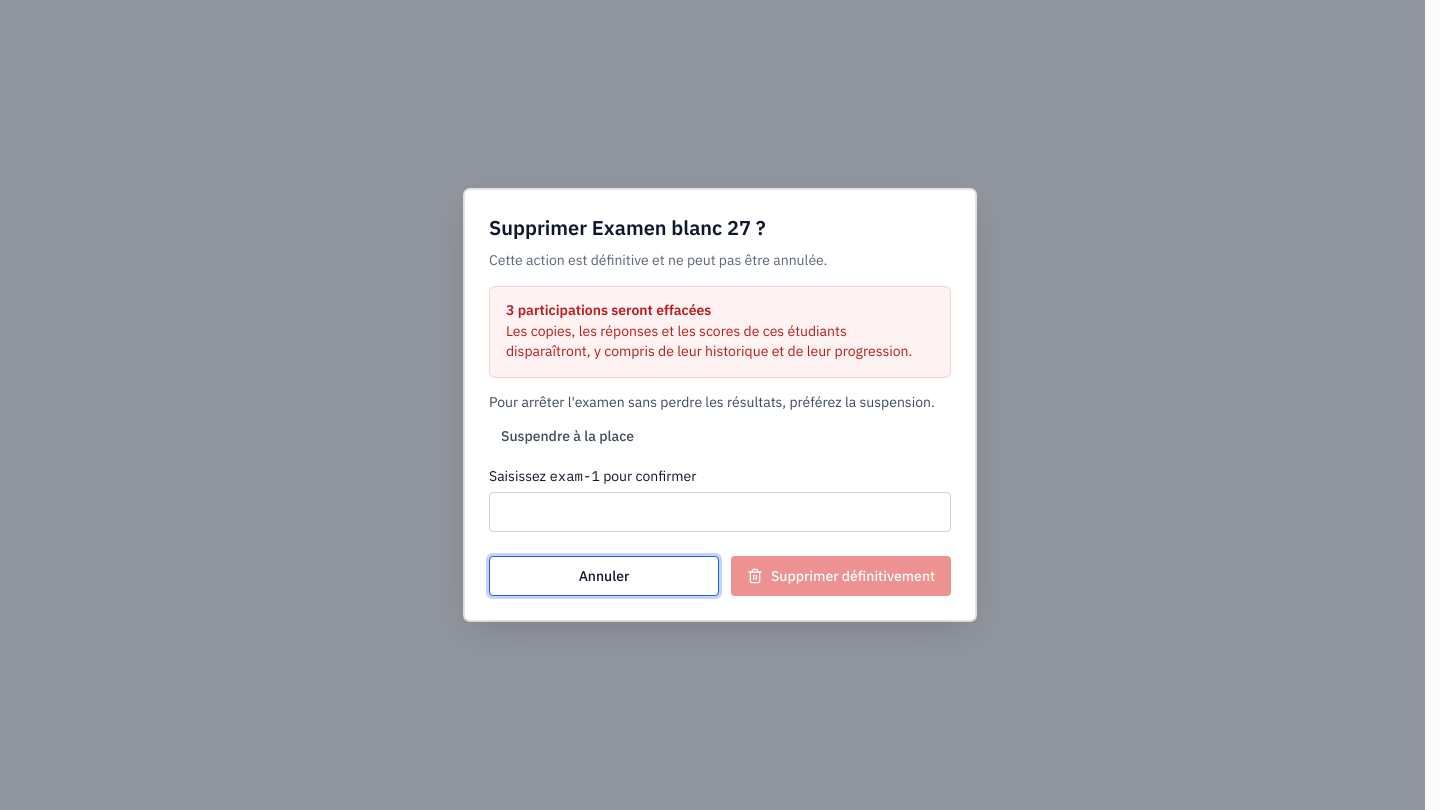
DeleteExamDialog › avec participations, exige l'identifiant de l'examen
Expected: the heading "3 participations seront effacées" is shown, left=506, top=301, right=711, bottom=319
Expected: the button with test id "btn-delete-exam-confirm" is disabled, left=731, top=556, right=951, bottom=596
Type "exam-" into the field with test id "delete-exam-confirm-input". click: (720, 512)
box: left=489, top=492, right=951, bottom=532
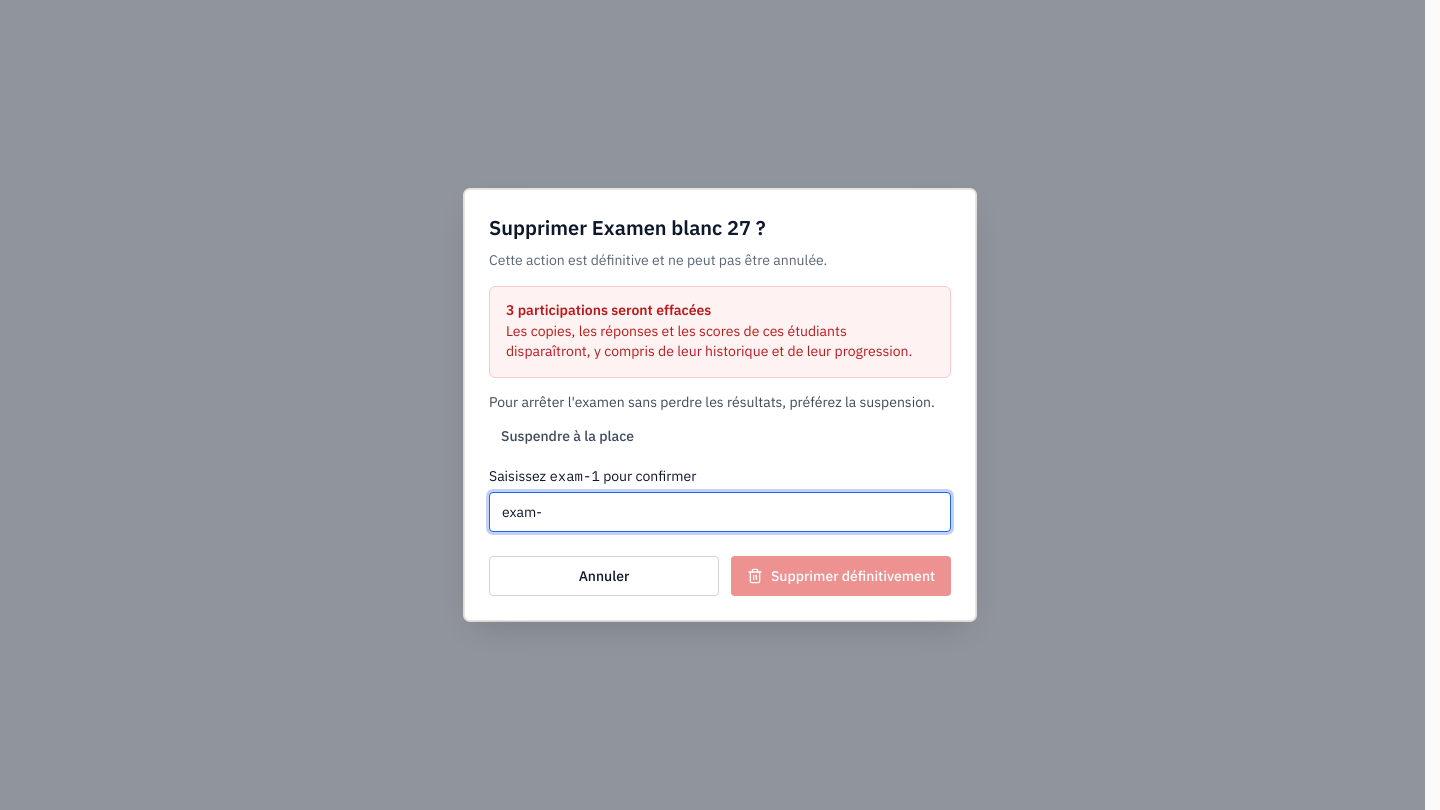
Expected: the button with test id "btn-delete-exam-confirm" is disabled, left=731, top=556, right=951, bottom=596
Type "1" into the field with test id "delete-exam-confirm-input". click: (720, 512)
box: left=489, top=492, right=951, bottom=532
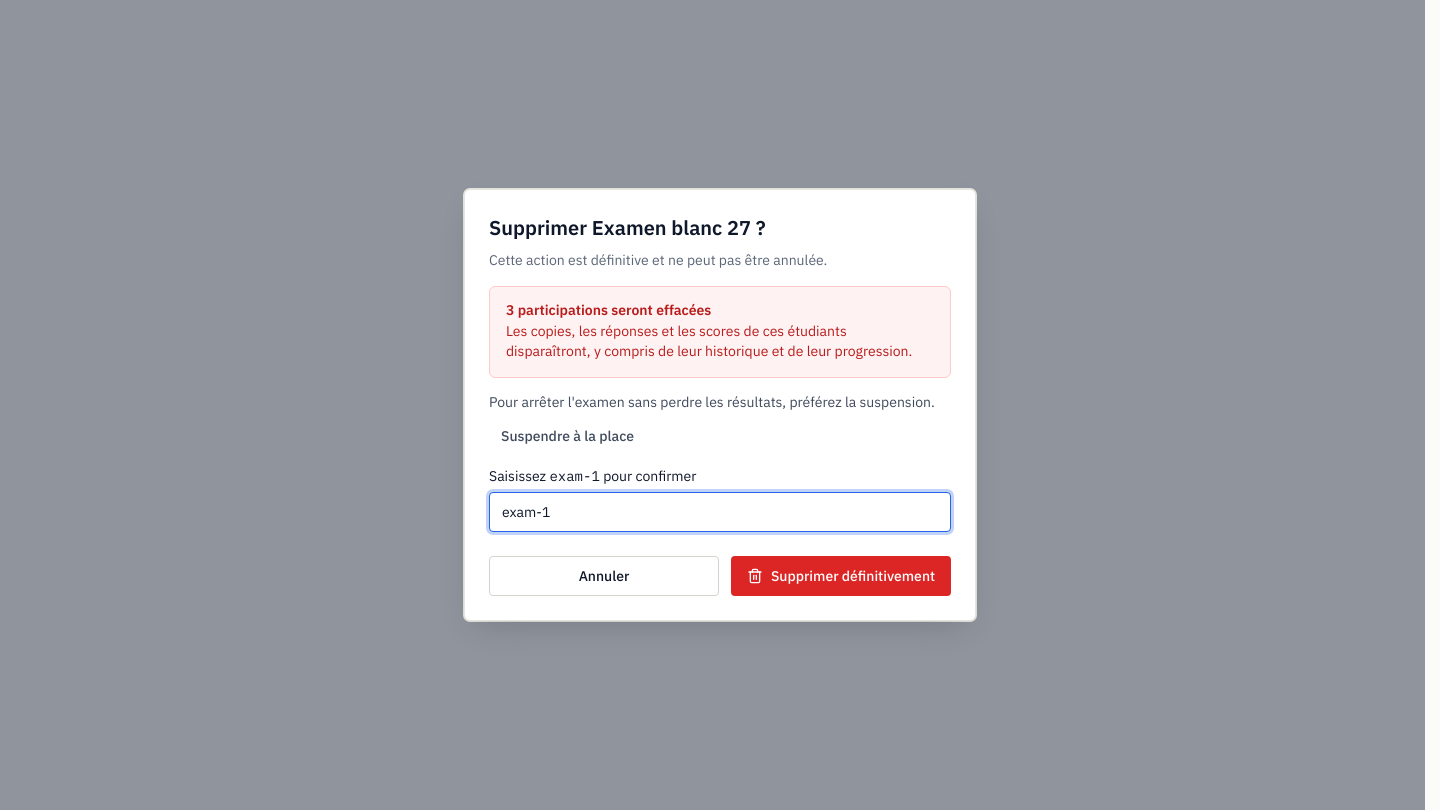
Expected: the button with test id "btn-delete-exam-confirm" is enabled, left=731, top=556, right=951, bottom=596
